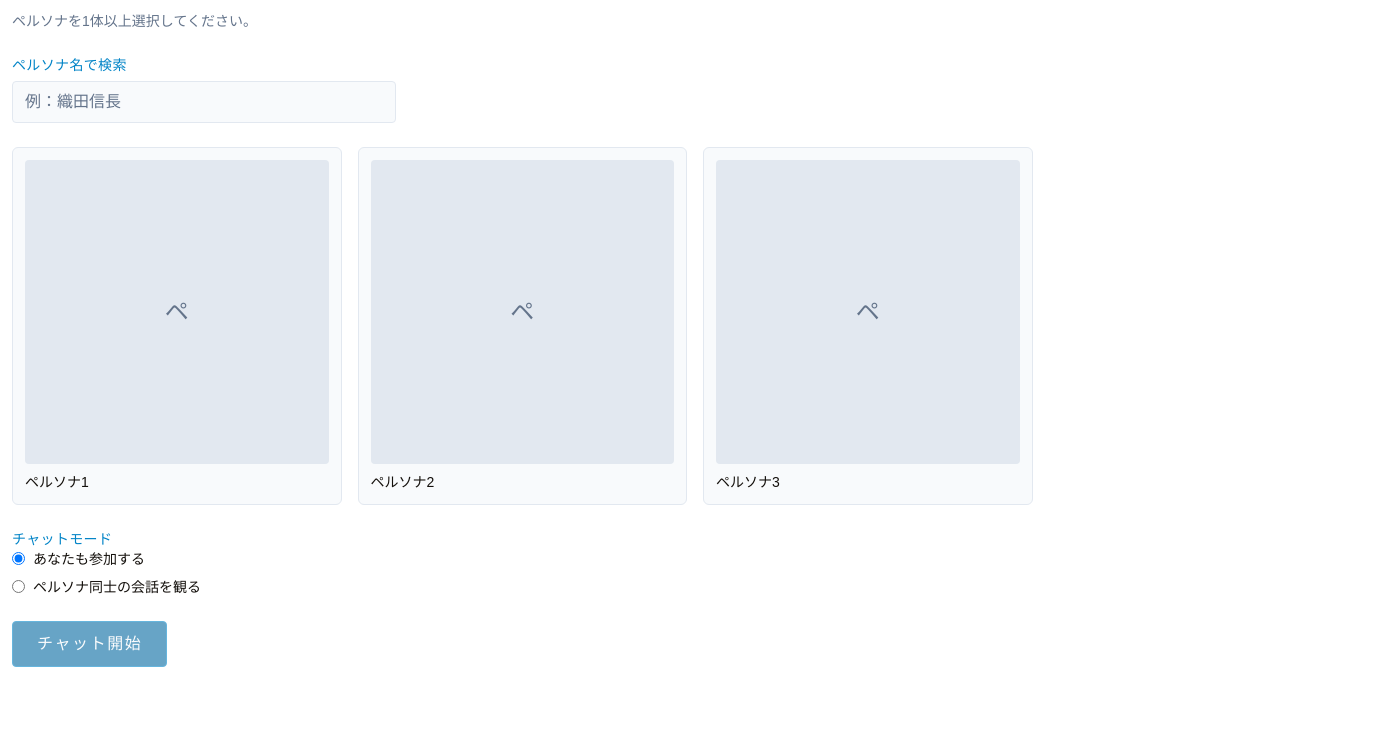
Test: PersonaSelector › PERSONA_ONLYではお題が未入力の間は開始ボタンが無効
Click the button "ペ ペルソナ1".
click(177, 326)  # box [12,147,342,504]
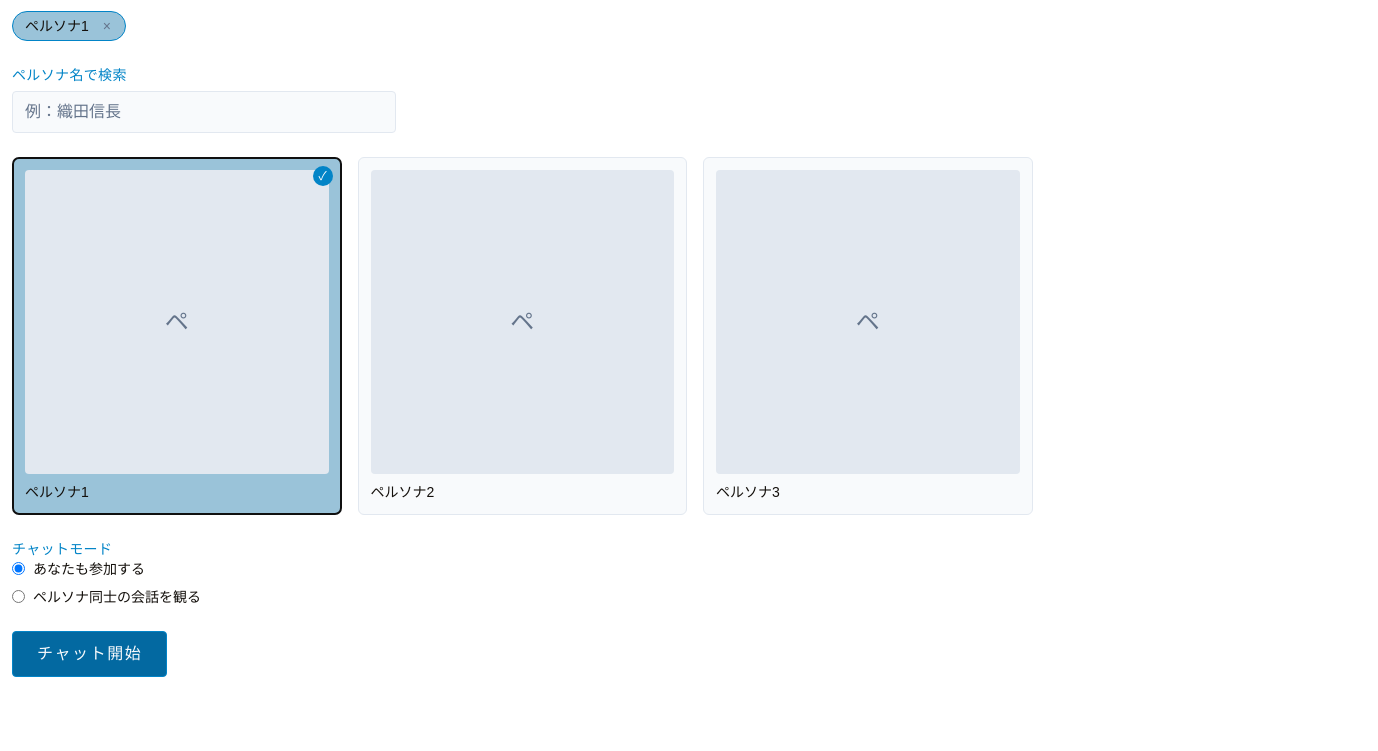
Click the radio button labelled "ペルソナ同士の会話を観る".
click(18, 596)  # box [12,590,25,603]
(page scrolled)
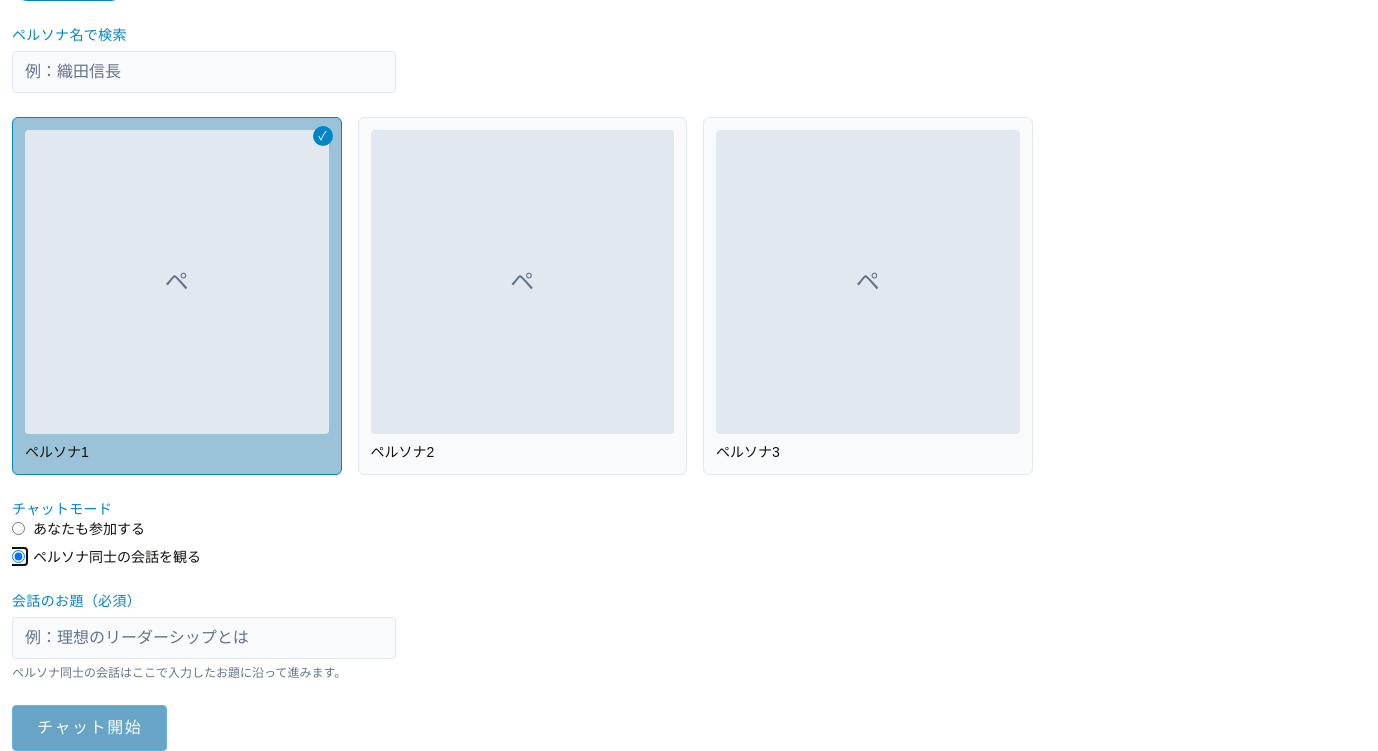
expect the button "チャット開始" is disabled: met, box [12,704,168,750]
